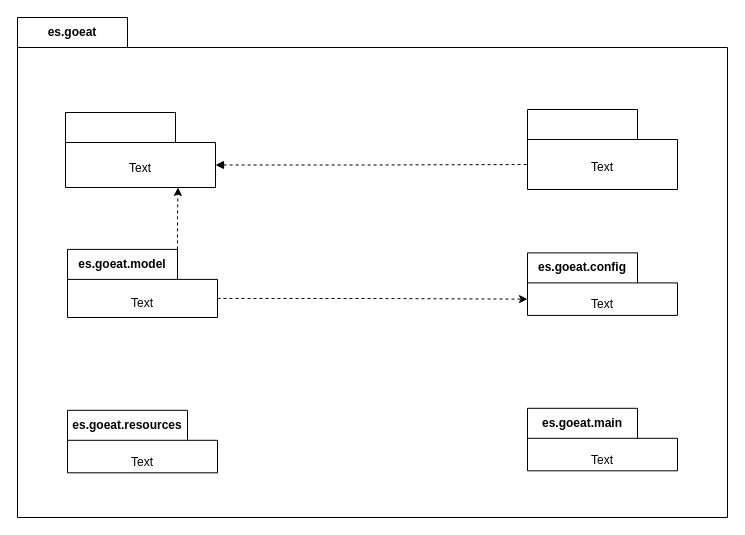
Some shapes in this 745 by 535 pixel diagram are drawn without their labels. Each missing label, with the centre of its shape:
es.goeat.controller: (x=140, y=150)
es.goeat.view: (x=602, y=149)
